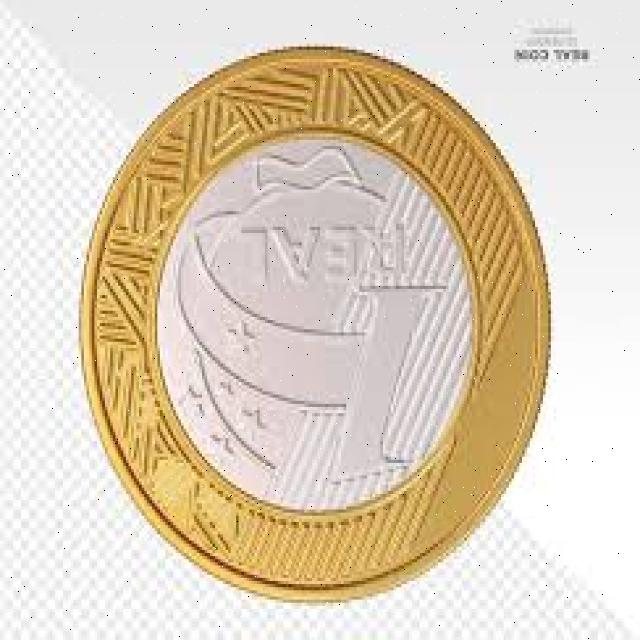1 real: (86, 49, 544, 601)
